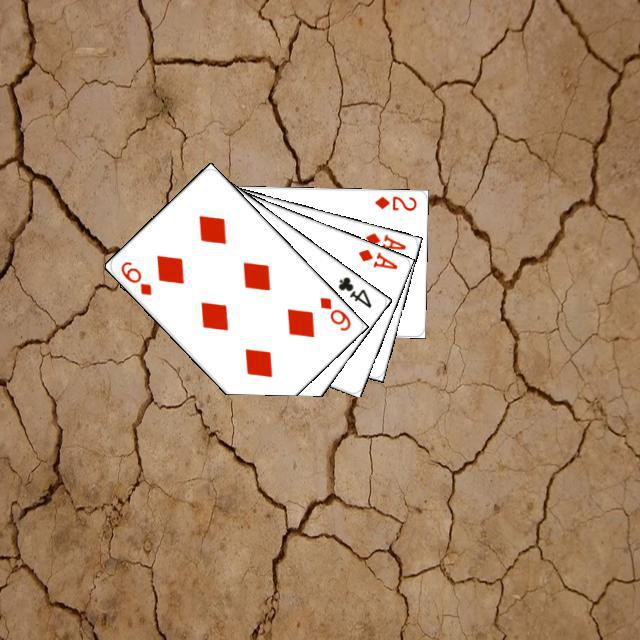2d: (370, 191, 418, 212)
4c: (333, 272, 373, 310)
6d: (315, 292, 353, 333), (116, 256, 154, 297)
Ad: (353, 244, 400, 271), (360, 228, 408, 252)
